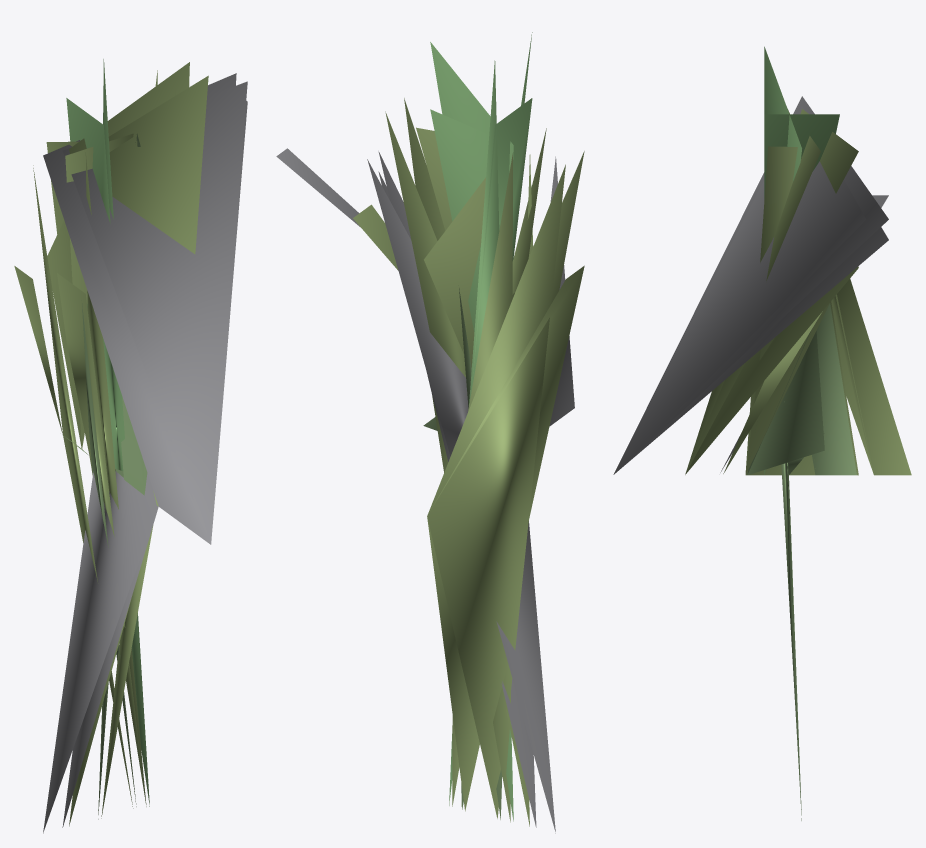
The model's file is npc_goblin_action.glb.
3 views of the same model, side by side, from view 1: azimuth 30°, elevation 25°; view 2: azimuth 150°, elevation 25°; view 3: azimuth 270°, elevation 25° (orthographic).
Parts seen in each view (by area): view 1: npc_goblin_action; view 2: npc_goblin_action; view 3: npc_goblin_action.
Part boxes in pixels (box(x1,y1,x2,y2)): npc_goblin_action: box(14, 59, 247, 833); npc_goblin_action: box(276, 32, 584, 833); npc_goblin_action: box(613, 46, 911, 820).
Size of the model in its own units: 0.79 by 2.3 by 0.79.
